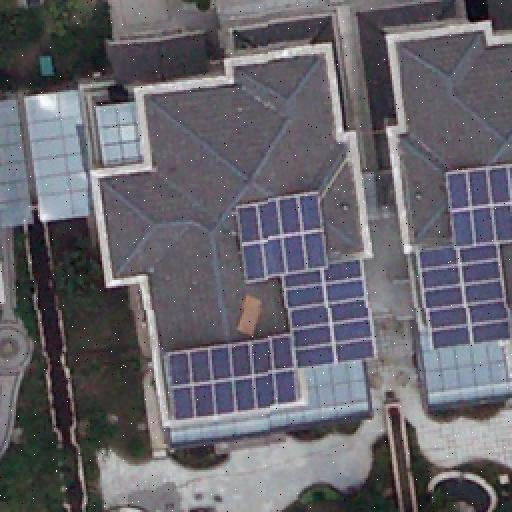solar-panel: (150, 330, 300, 420), (403, 242, 512, 348), (277, 265, 379, 367), (234, 194, 326, 284), (445, 158, 512, 248)
